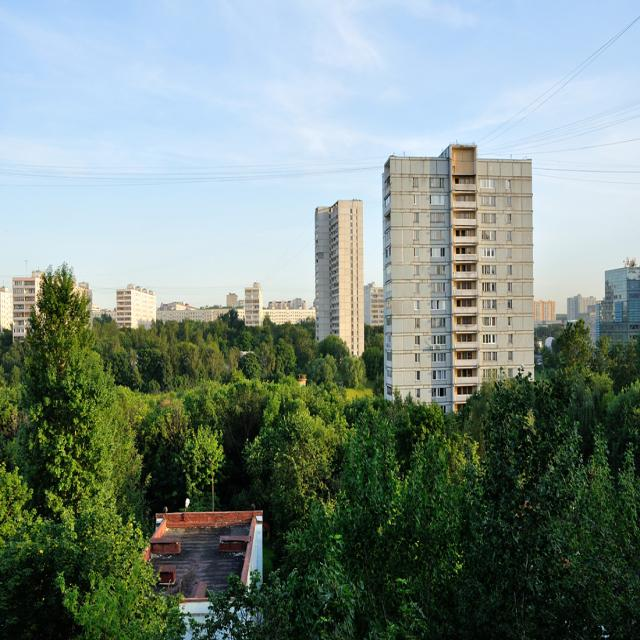window: (431, 280, 448, 295), (431, 318, 449, 330), (480, 178, 496, 191), (479, 264, 496, 276), (481, 228, 495, 242), (431, 211, 446, 224), (482, 351, 498, 363), (431, 388, 449, 398), (480, 196, 495, 208), (481, 214, 496, 226), (429, 177, 443, 189), (483, 334, 497, 346), (482, 247, 496, 258), (429, 264, 446, 273), (432, 229, 447, 239), (432, 353, 447, 363), (481, 282, 496, 292), (431, 249, 447, 258), (482, 300, 497, 309), (413, 264, 421, 280), (431, 301, 447, 309), (433, 371, 447, 380), (505, 316, 514, 329), (429, 195, 445, 202), (434, 334, 448, 342), (482, 320, 496, 328), (506, 245, 513, 260), (414, 332, 421, 346), (414, 314, 420, 330), (508, 346, 514, 362), (415, 388, 422, 401), (506, 280, 513, 293), (414, 351, 421, 363), (508, 297, 514, 311), (506, 368, 512, 382), (506, 195, 512, 208), (414, 283, 421, 294), (414, 298, 420, 310), (506, 211, 512, 223), (508, 262, 514, 274), (412, 179, 419, 189), (413, 229, 420, 239), (508, 332, 515, 342), (413, 194, 419, 205), (415, 210, 420, 223), (507, 227, 512, 240), (414, 373, 421, 381), (506, 179, 510, 192), (414, 247, 419, 257)
